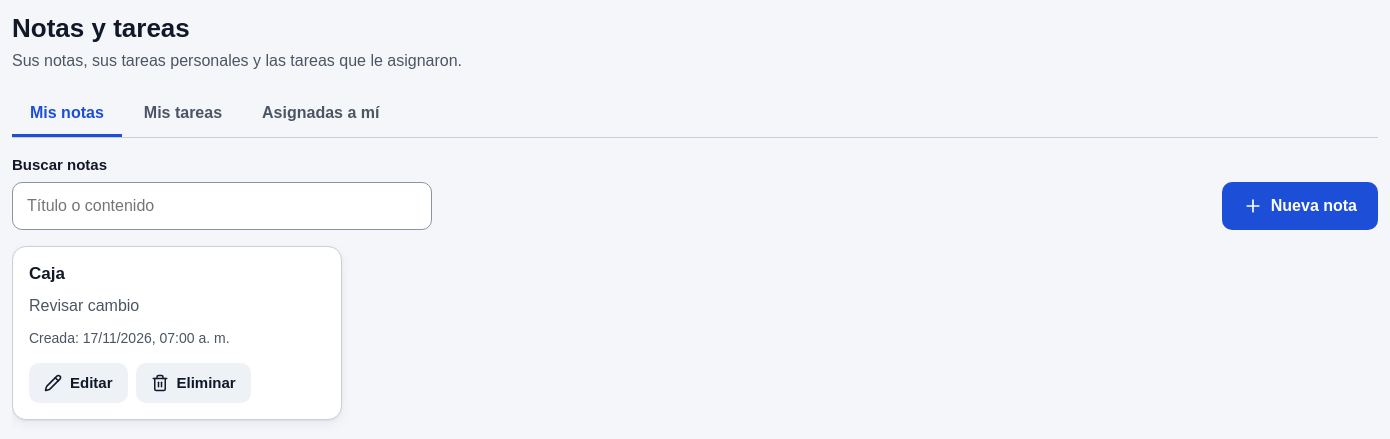
Test case: mis tareas y mis notas › las notas se buscan por título o contenido
Expected: the element "Caja" is shown, [12,246,342,420]
Type "bolsas" into the search field labelled "Buscar notas" at (222, 206), box [12,182,432,230]
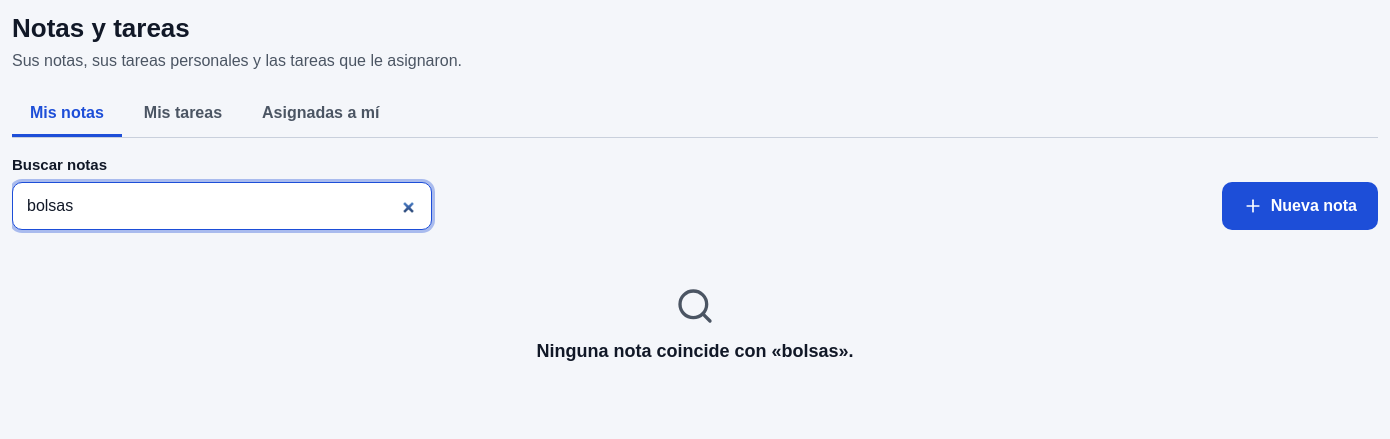
Result: the text "Ninguna nota coincide con «bolsas»." is shown at [536,338,854,365]
